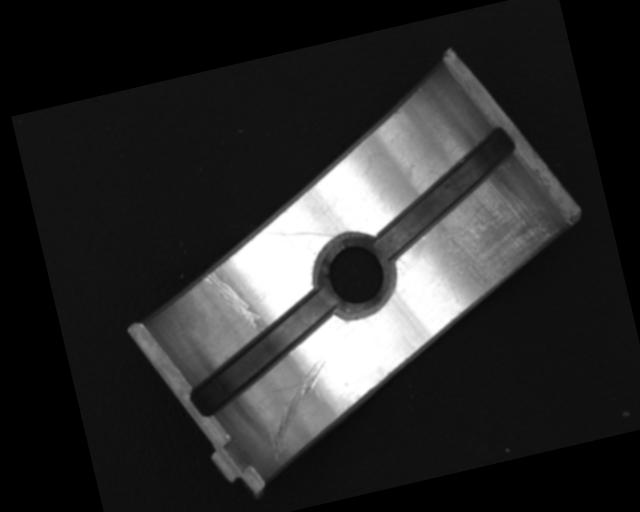gap: (357, 125, 533, 262), (174, 288, 349, 416)
hole: (303, 223, 405, 326)
nick: (254, 357, 346, 464), (201, 260, 265, 340), (258, 214, 336, 253)
scratch: (425, 166, 573, 300)
